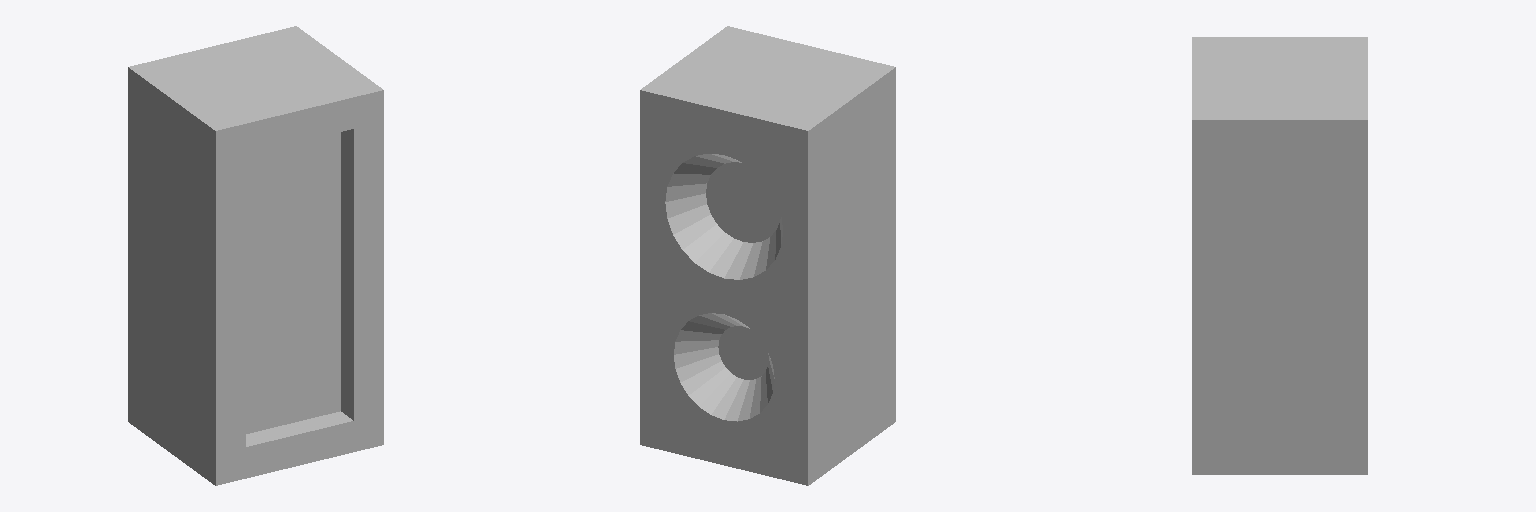
The model's file is speakerSmall.obj.
The picture shows the model from 3 angles: view 1: azimuth 30°, elevation 25°; view 2: azimuth 150°, elevation 25°; view 3: azimuth 270°, elevation 25°; orthographic projection.
Visible parts, largest first — view 1: speakerSmall; view 2: speakerSmall; view 3: speakerSmall.
Part boxes in pixels (bbox=[...]): speakerSmall: bbox=[128, 26, 383, 485]; speakerSmall: bbox=[640, 26, 895, 485]; speakerSmall: bbox=[1192, 37, 1367, 474].
Size of the model in its own units: 0.148 by 0.298 by 0.1332.